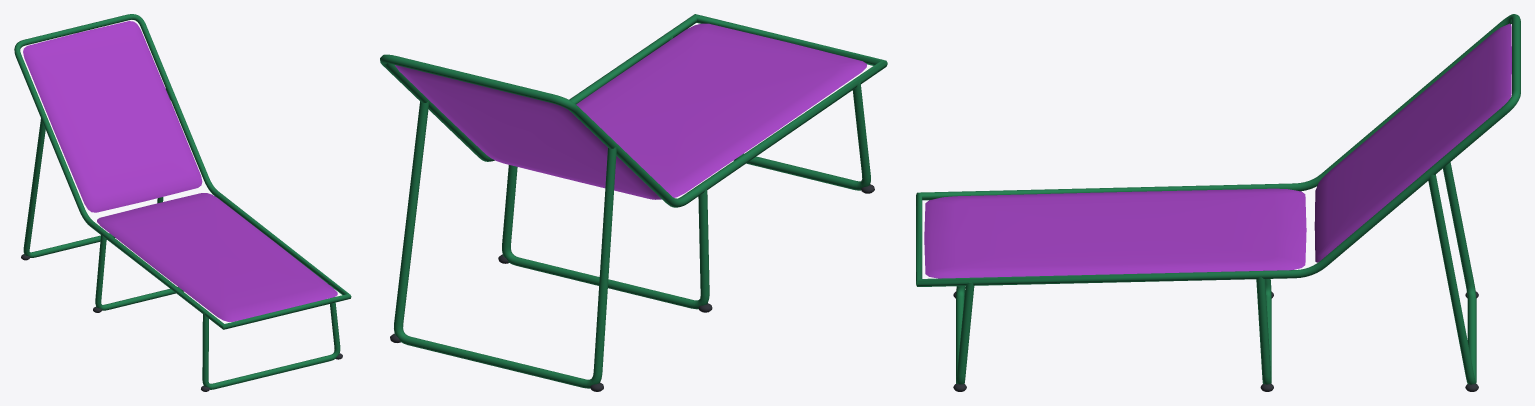
File: espreguicadeira_dobravel_violeta.glb
3 views of the same model, side by side, from view 1: azimuth 30°, elevation 25°; view 2: azimuth 150°, elevation 25°; view 3: azimuth 270°, elevation 25° (orthographic). The views are drawn at different scales.
Visible parts, largest first — view 1: espreguicadeira_dobravel_violeta; view 2: espreguicadeira_dobravel_violeta; view 3: espreguicadeira_dobravel_violeta.
Part boxes in pixels (x1,y1,x2,y2): espreguicadeira_dobravel_violeta: [14, 14, 351, 391]; espreguicadeira_dobravel_violeta: [380, 14, 887, 391]; espreguicadeira_dobravel_violeta: [916, 14, 1520, 391].
Bounding box in the file's own units: 0.678 × 0.943 × 1.77.
1 material, 1 textured.
